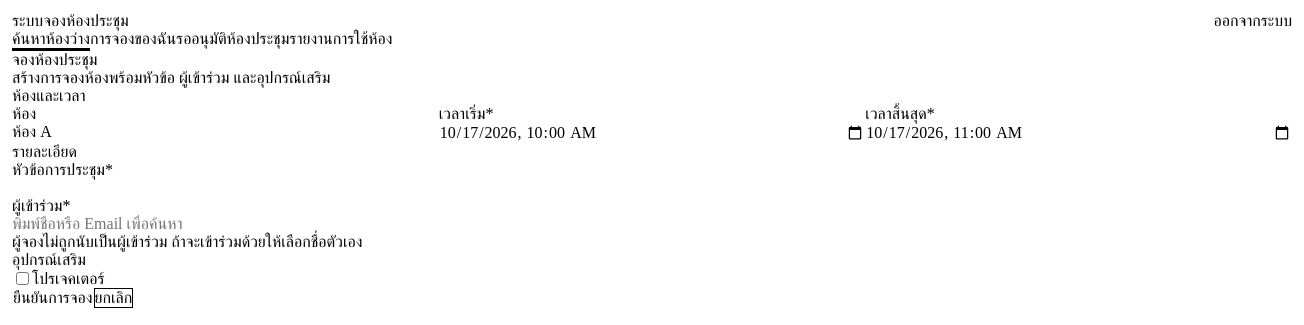
Test: FE-mrr-003 booking form (UI-mrr-006) › AC-mrr-007 no attendee is refused — the booker is not counted
The image size is (1304, 325).
Expected: the text with test id "ui-mrr-006-ent-007-room" reads "ห้อง A", [12,123,52,140]
Type "ประชุมทีม" into the field with test id "ui-mrr-006-ent-007-title" at (652, 188), box [12,179,1292,197]
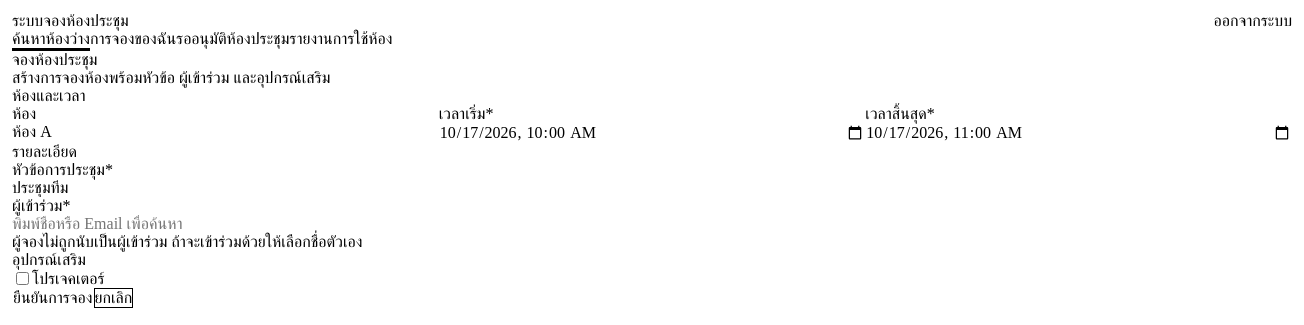
Click the button with test id "ui-mrr-006-confirm" at (53, 298), box [12,288,94,308]
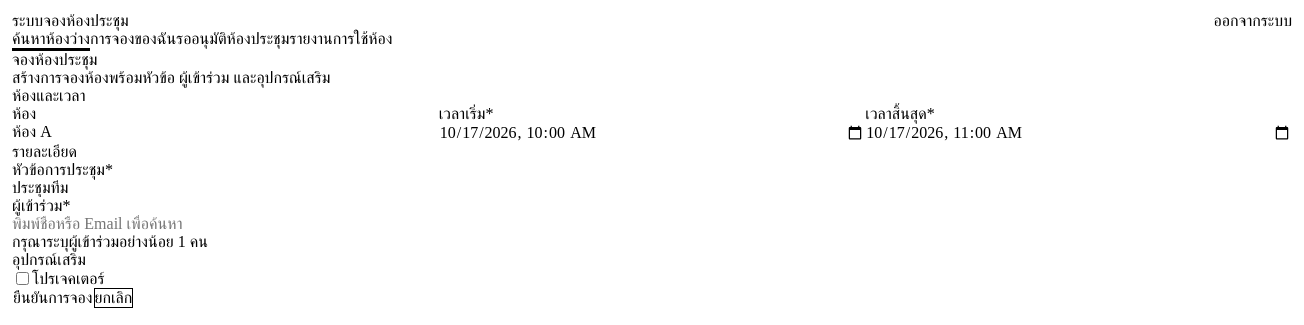
Expected: the text "กรุณาระบุผู้เข้าร่วมอย่างน้อย 1 คน" is shown, [12,233,208,250]
